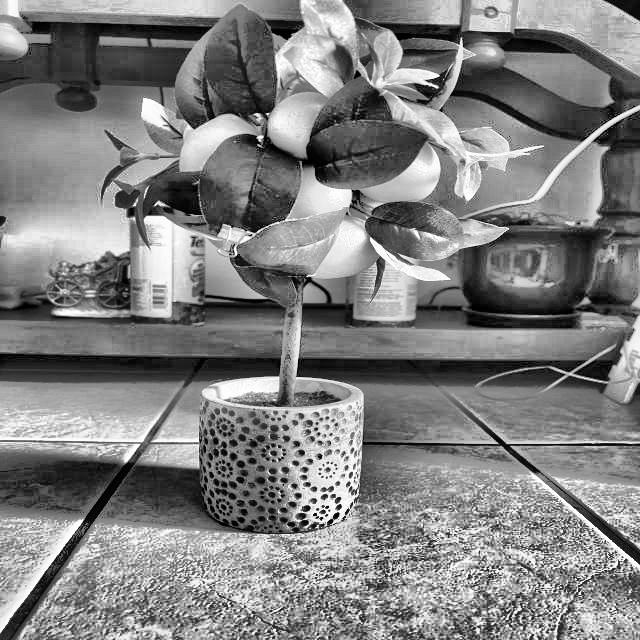plants: (94, 22, 640, 440)
